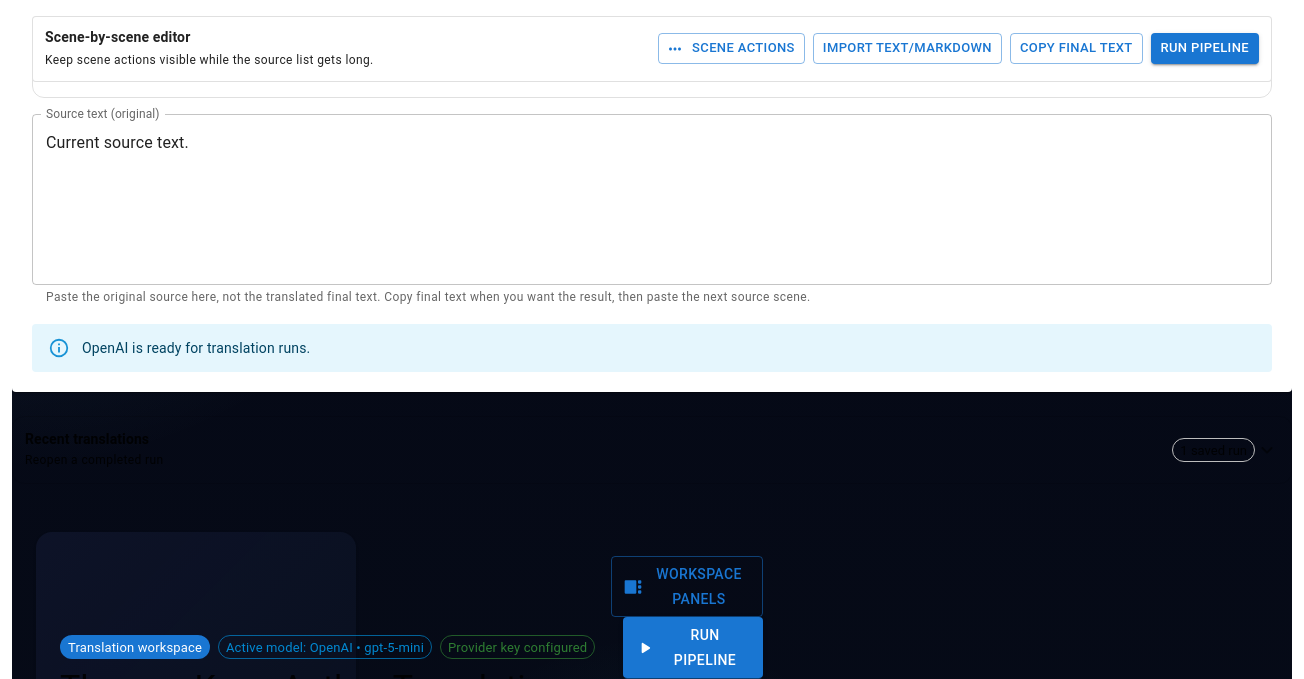
Test: TranslationWorkspace history integration › lists saved translations and restores one into the workspace
(page scrolled)
Click the button "Recent translations Reopen a completed run 1 saved run". click: (87, 439)
box: [13,417,1291,483]
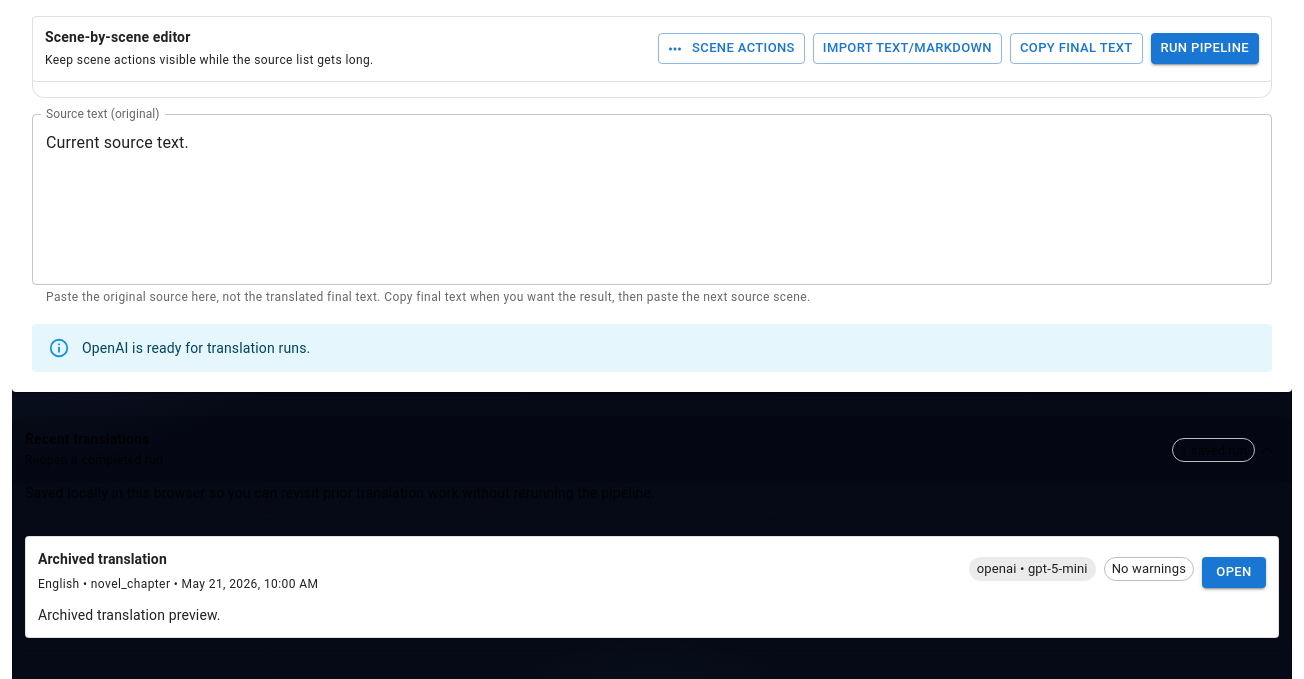
expect the button "Open" is shown: met
Click the button "Open". click: (1234, 572)
box: [1202,557,1266,588]
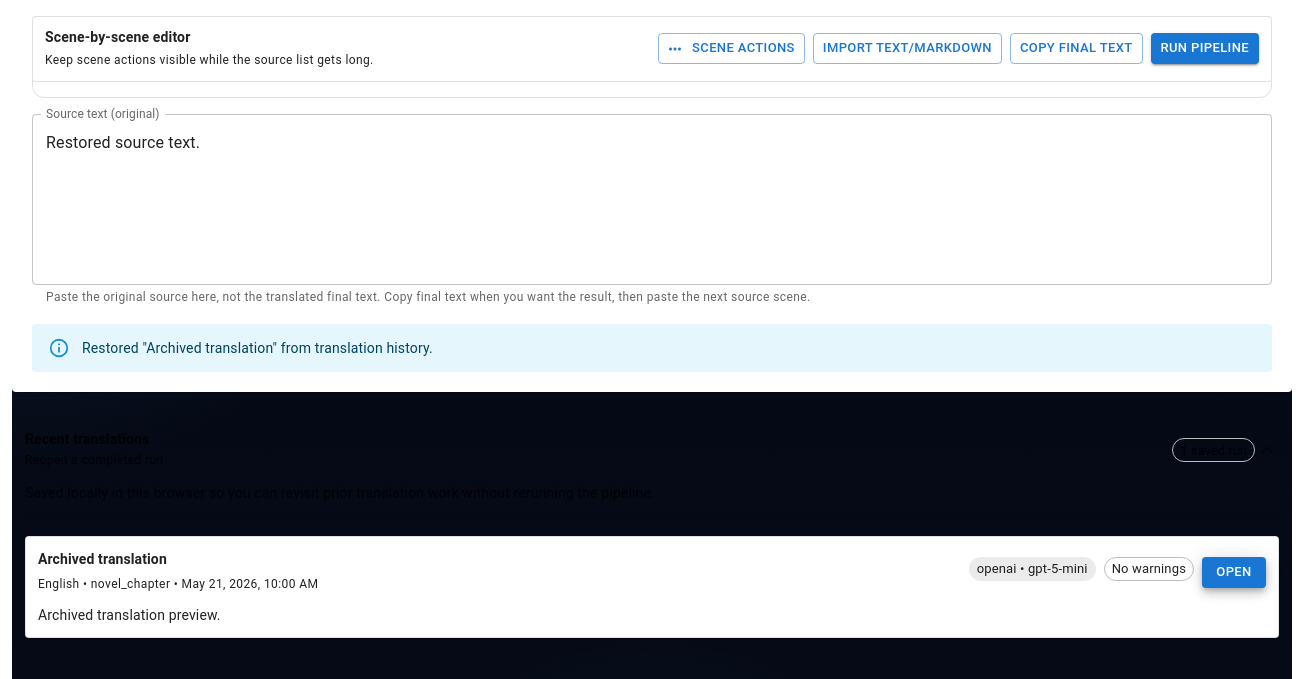
expect the text box labelled "Source text (original)" holds "Restored source text.": met, box [46,131,1258,269]
expect the text "Restored \"Archived translation\" from translation history." is shown: met, box [82,340,433,356]
